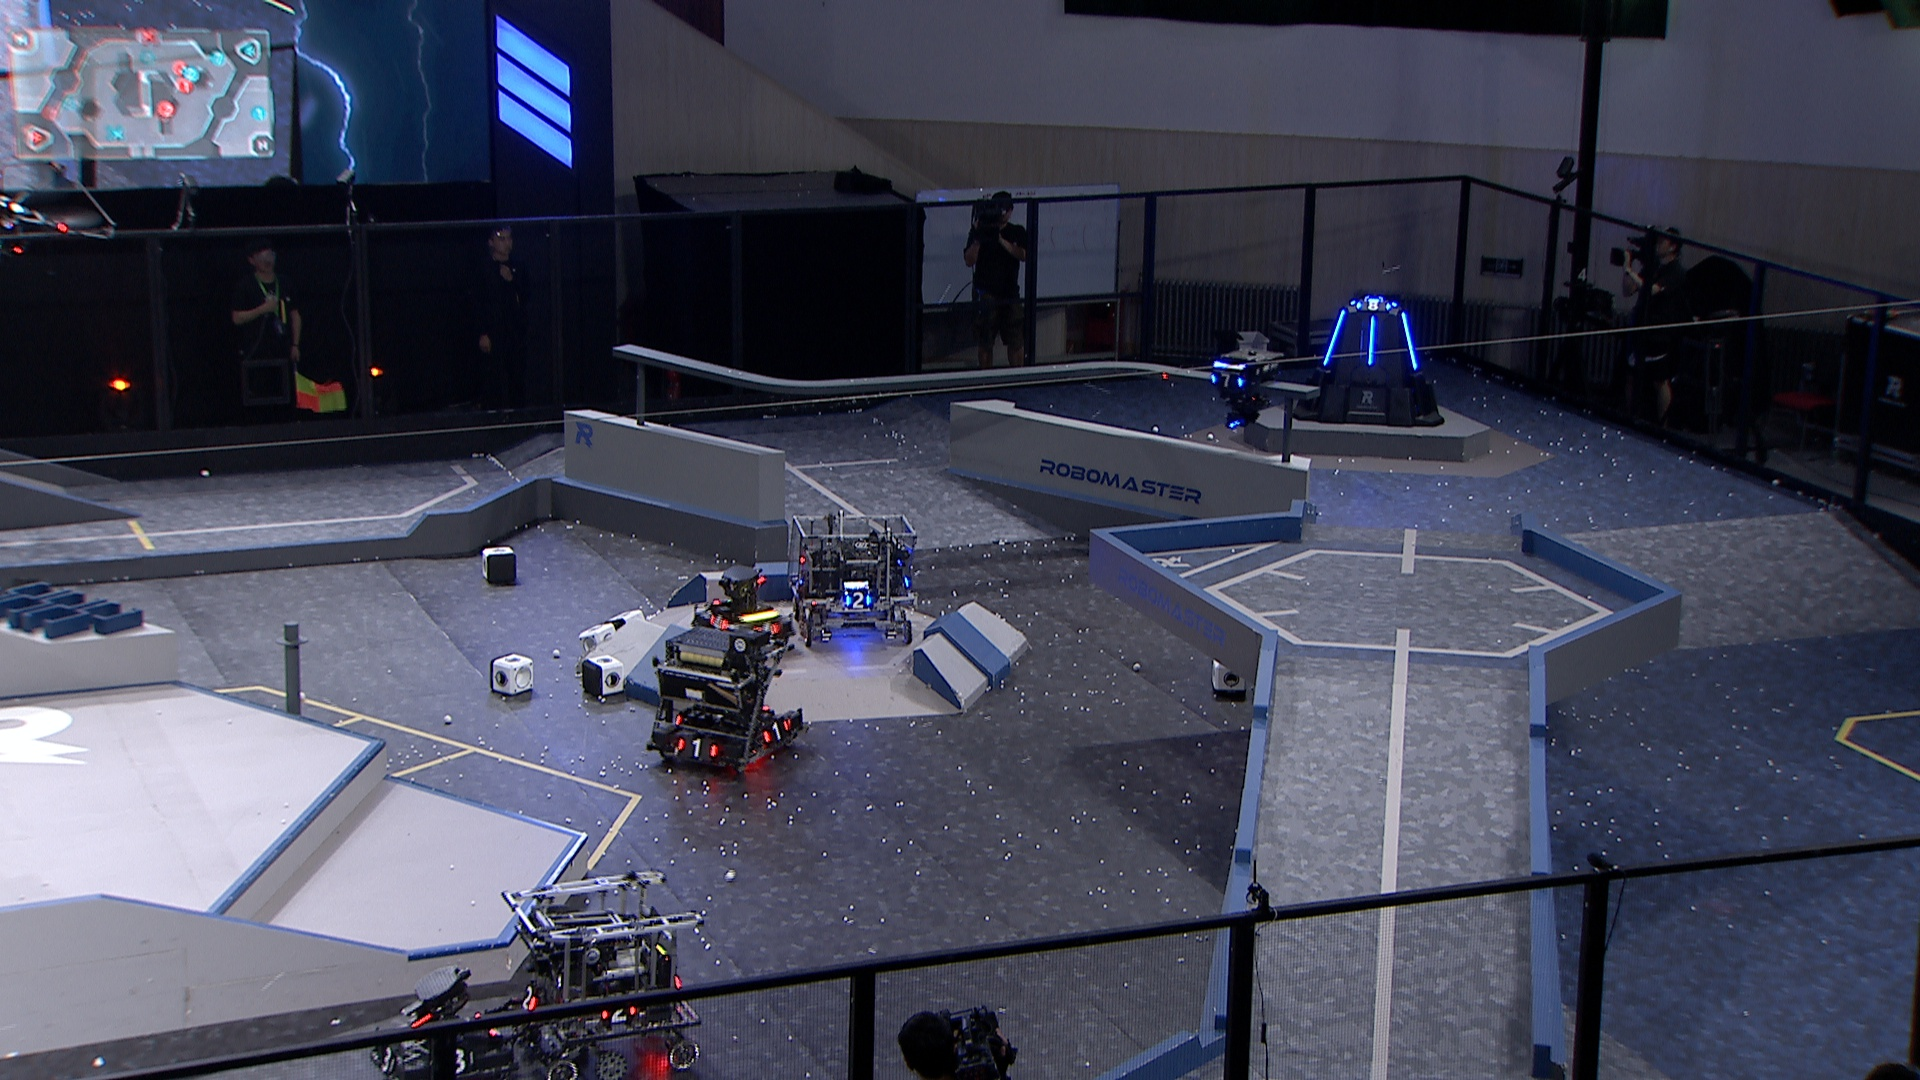armor: (1320, 309, 1346, 371), (1399, 309, 1419, 371), (674, 736, 719, 760), (448, 1044, 477, 1073), (764, 717, 789, 746), (1209, 371, 1245, 390), (377, 1044, 398, 1076), (518, 982, 541, 1011), (1366, 314, 1378, 368), (1356, 297, 1393, 314), (599, 1007, 636, 1025), (843, 589, 872, 611), (752, 618, 782, 637), (707, 613, 731, 636)
base: (1290, 294, 1448, 429)
car: (498, 869, 705, 1076), (642, 622, 806, 781), (785, 510, 916, 646), (365, 963, 517, 1080), (688, 567, 798, 659)
watcher: (1207, 348, 1286, 431)
